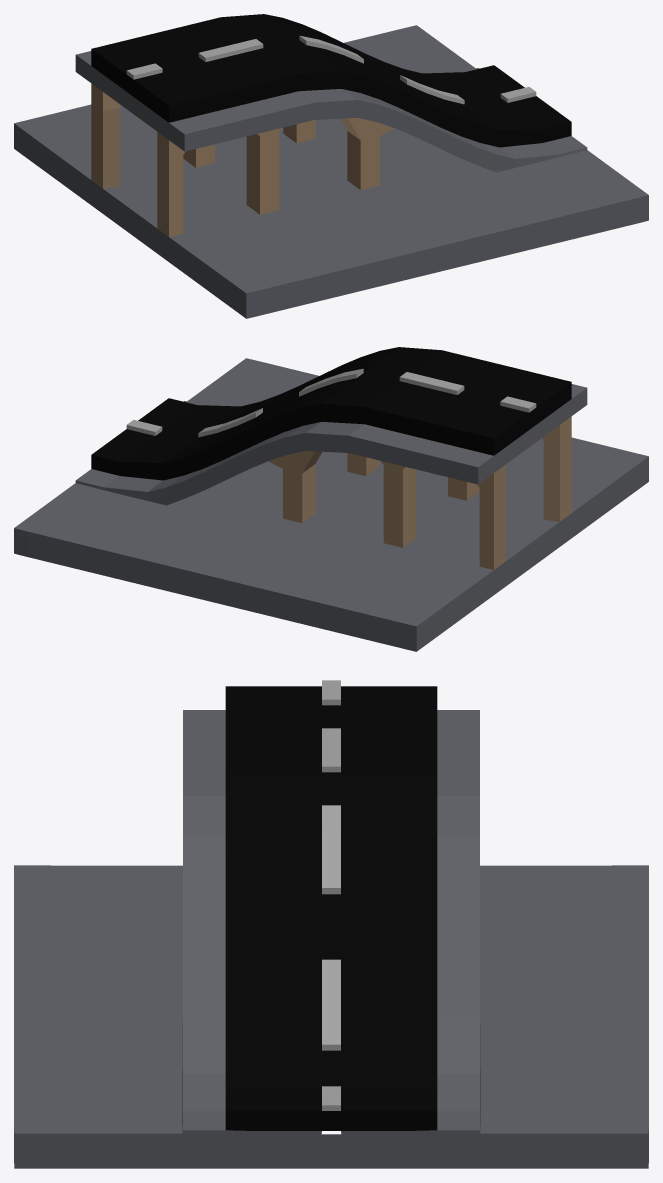
The model's file is Street_Bridge_Ramp.glb.
The picture shows the model from 3 angles, top to bottom: view 1: azimuth 30°, elevation 25°; view 2: azimuth 150°, elevation 25°; view 3: azimuth 270°, elevation 25°; orthographic projection. The views are drawn at different scales.
Visible parts, largest first — view 1: Street_Bridge_Ramp; view 2: Street_Bridge_Ramp; view 3: Street_Bridge_Ramp.
Boxes of the visible parts, x1,y1,x2,y2 form: Street_Bridge_Ramp: [14, 14, 648, 318]; Street_Bridge_Ramp: [14, 347, 648, 651]; Street_Bridge_Ramp: [14, 680, 648, 1168].
Bounding box in the file's own units: 2 × 0.7638 × 2.
